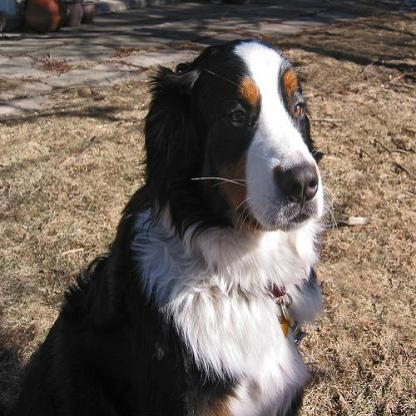Bernese_mountain_dog: (7, 37, 340, 413)
